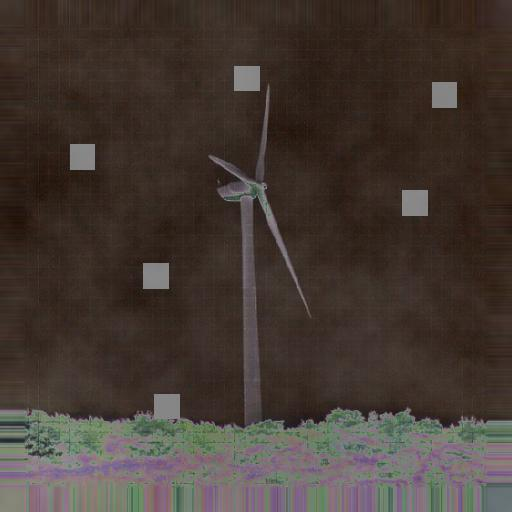wind turbine: (208, 85, 317, 427)
